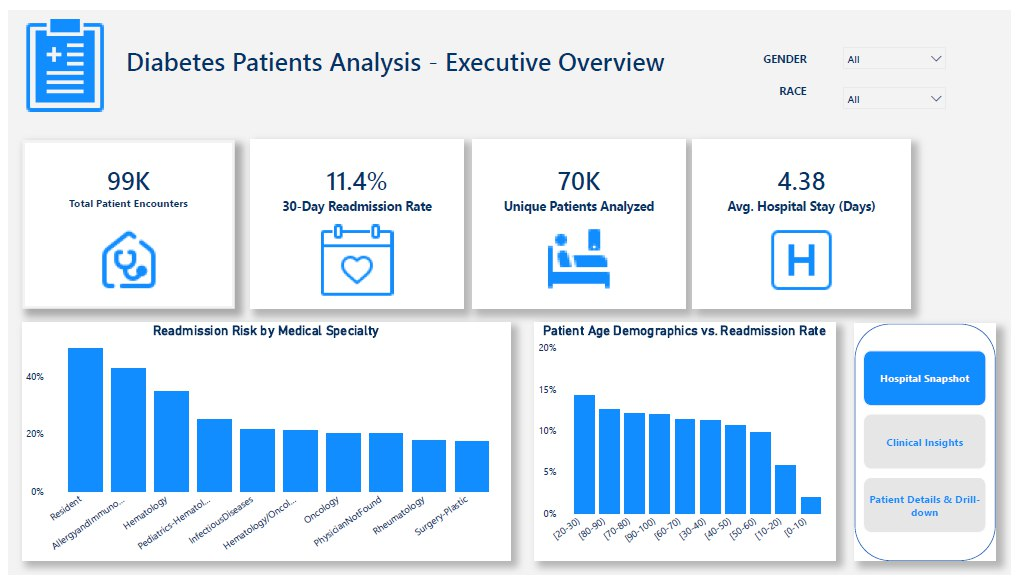

The dashboard page shown, as its layout file describes it:
{"tool":"powerbi","page":{"name":"Hospital Snapshot","canvas":[1280,720],"ordinal":0},"visuals":[{"type":"shape","box":[1081.4,399.8,180,303.3],"z":0,"group":"g1"},{"type":"cardVisual","title":"Total Patient Encounters","fields":{"Data":["Table.Total Encounters"]},"box":[16.8,164.6,272.1,216.7],"z":1000},{"type":"cardVisual","fields":{"Data":["Table.Readmission Rate %"]},"box":[309,164.4,272.1,216.9],"z":2000},{"type":"cardVisual","fields":{"Data":["Table.Unique Patients"]},"box":[592.4,164.4,272.1,216.9],"z":3000},{"type":"cardVisual","fields":{"Data":["Avg(hospital_project hospital_clean.time_in_hospital)"]},"box":[874.5,164.4,277.8,216.9],"z":4000},{"type":"clusteredColumnChart","title":"Readmission Risk by Medical Specialty","fields":{"Category":["hospital_project hospital_clean.specialty"],"Y":["Table.Readmission Rate %"]},"box":[17,398.3,623.6,303.3],"z":5000},{"type":"columnChart","title":"Patient Age Demographics vs. Readmission Rate","fields":{"Category":["hospital_project hospital_clean.age"],"Y":["Table.Readmission Rate %"]},"box":[671.8,398.3,384.1,303.3],"z":6000},{"type":"slicer","fields":{"Values":["hospital_project hospital_clean.gender"]},"box":[1055.9,36.9,151.7,51],"z":7000},{"type":"slicer","fields":{"Values":["hospital_project hospital_clean.race"]},"box":[1055.9,87.9,151.7,48.2],"z":8000},{"type":"textbox","box":[966.6,87.9,70.9,36.9],"z":9000},{"type":"textbox","box":[946.8,46.8,90.7,29.8],"z":10000},{"type":"textbox","box":[133.2,36.9,721.4,73.7],"z":11000},{"type":"image","box":[0,11.3,143.1,117.6],"z":12000},{"type":"pageNavigator","box":[1092.1,434.1,157.3,233.9],"z":13000,"group":"g1"},{"type":"group","id":"g1","title":"Group 1","box":[1081.4,399.8,180,303.3],"z":13001}]}

Visuals, with their boxes in screenshot pixels (x1, y1, x2, y2), scaled from the page's 1280x720 canvas onto the 1018x581 screenshot:
shape: box(860, 323, 1003, 567)
"Total Patient Encounters" cardVisual: box(13, 133, 230, 308)
cardVisual - Table.Readmission Rate %: box(246, 133, 462, 308)
cardVisual - Table.Unique Patients: box(471, 133, 688, 308)
cardVisual - Avg(hospital_project hospital_clean.time_in_hospital): box(696, 133, 916, 308)
"Readmission Risk by Medical Specialty" clusteredColumnChart: box(14, 321, 509, 566)
"Patient Age Demographics vs. Readmission Rate" columnChart: box(534, 321, 840, 566)
slicer - hospital_project hospital_clean.gender: box(840, 30, 960, 71)
slicer - hospital_project hospital_clean.race: box(840, 71, 960, 110)
textbox: box(769, 71, 825, 101)
textbox: box(753, 38, 825, 62)
textbox: box(106, 30, 680, 89)
image: box(0, 9, 114, 104)
pageNavigator: box(869, 350, 994, 539)
"Group 1" group: box(860, 323, 1003, 567)
